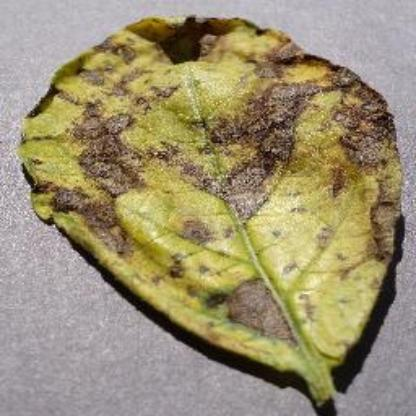Early-Blight: (19, 13, 401, 406)
